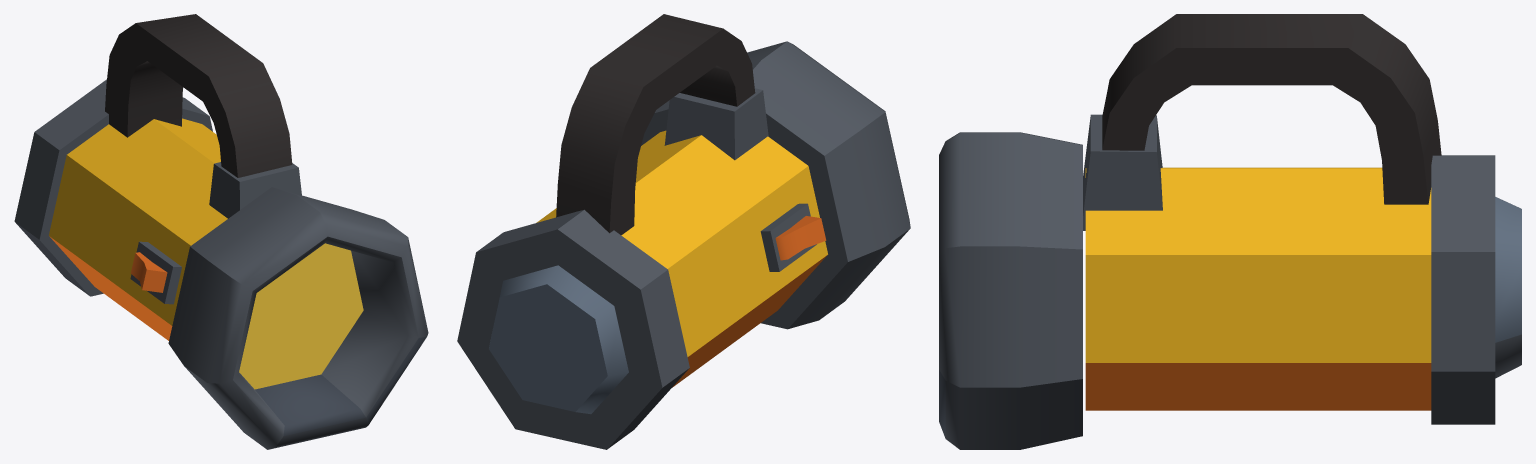
Rendered from lanterna_pacote.glb.
3 views of the same model, side by side, from view 1: azimuth 30°, elevation 25°; view 2: azimuth 150°, elevation 25°; view 3: azimuth 270°, elevation 25° (orthographic). The views are drawn at different scales.
Visible parts, largest first — view 1: lanterna_pacote; view 2: lanterna_pacote; view 3: lanterna_pacote.
Boxes of the visible parts, x1,y1,x2,y2 form: lanterna_pacote: [14, 14, 428, 449]; lanterna_pacote: [457, 14, 910, 449]; lanterna_pacote: [939, 14, 1521, 449].
Size of the model in its own units: 0.1725 by 0.2286 by 0.3087.
1 material, 1 textured.
